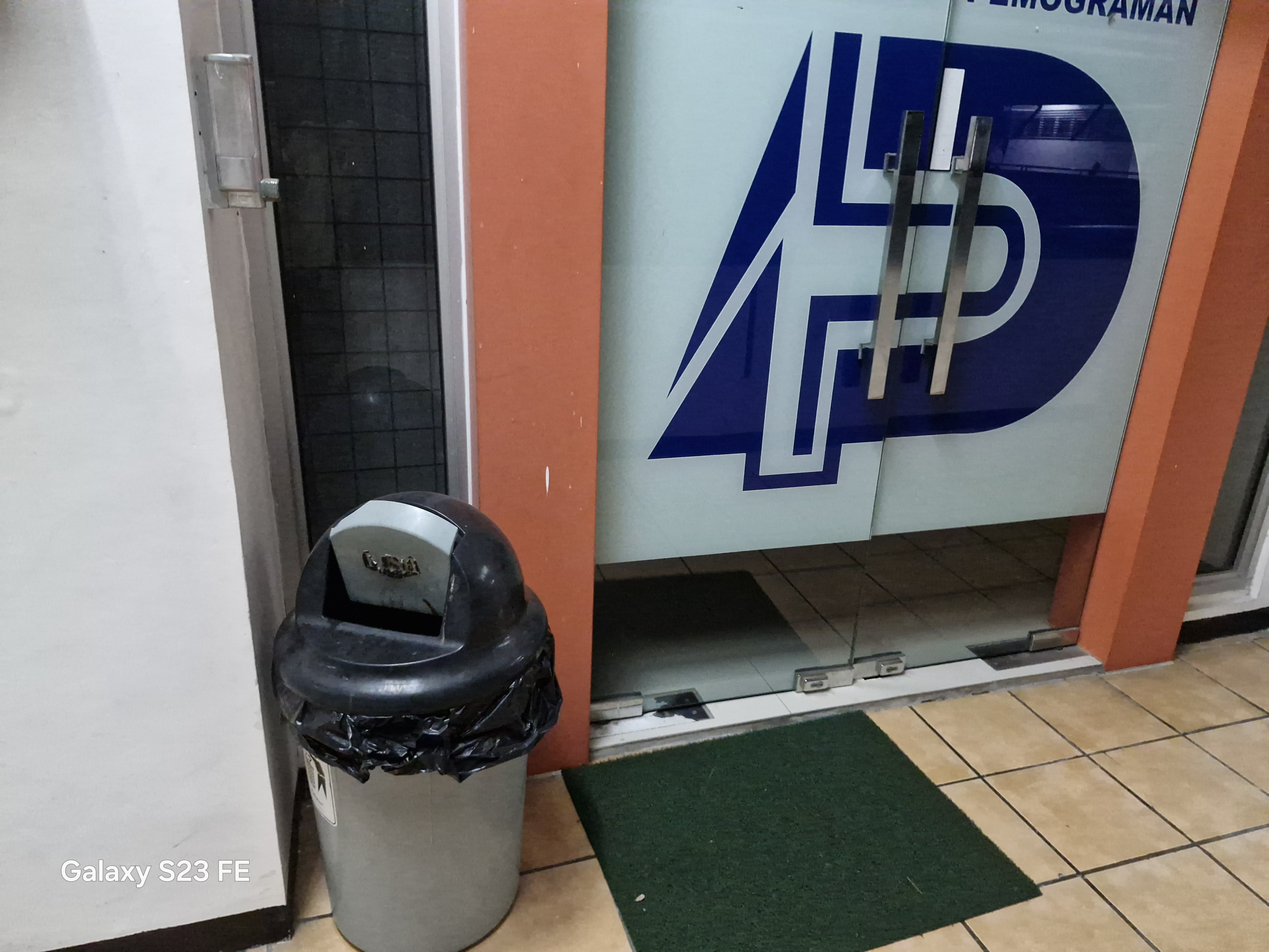door-stuff: (596, 0, 1218, 709), (254, 0, 457, 514)
floor-other-merged: (844, 647, 1268, 951), (465, 768, 634, 951), (292, 789, 358, 951)
rug-merged: (564, 712, 1038, 951)
trash-bin: (274, 492, 561, 951)
wall-other-merged: (0, 0, 291, 951), (1079, 0, 1268, 666), (463, 0, 596, 771)
